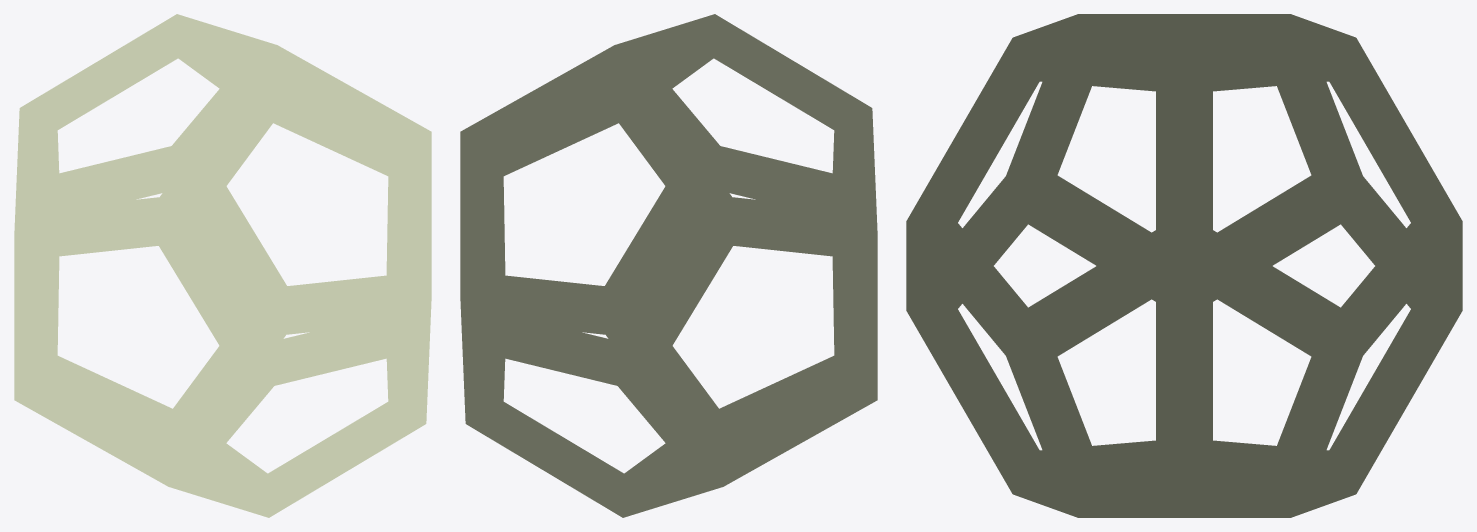
The model's file is avatar.dae.
3 renders of one model, left to right at view 1: azimuth 30°, elevation 25°; view 2: azimuth 150°, elevation 25°; view 3: azimuth 270°, elevation 25°, orthographic. The views are drawn at different scales.
Parts seen in each view (by area): view 1: dodecahedron1-0; view 2: dodecahedron1-0; view 3: dodecahedron1-0.
Part boxes in pixels (x1,y1,x2,y2): dodecahedron1-0: (14,14,431,517); dodecahedron1-0: (460,14,877,517); dodecahedron1-0: (906,14,1462,517).
Bounding box in the file's own units: 2.62 × 2.62 × 2.62.
